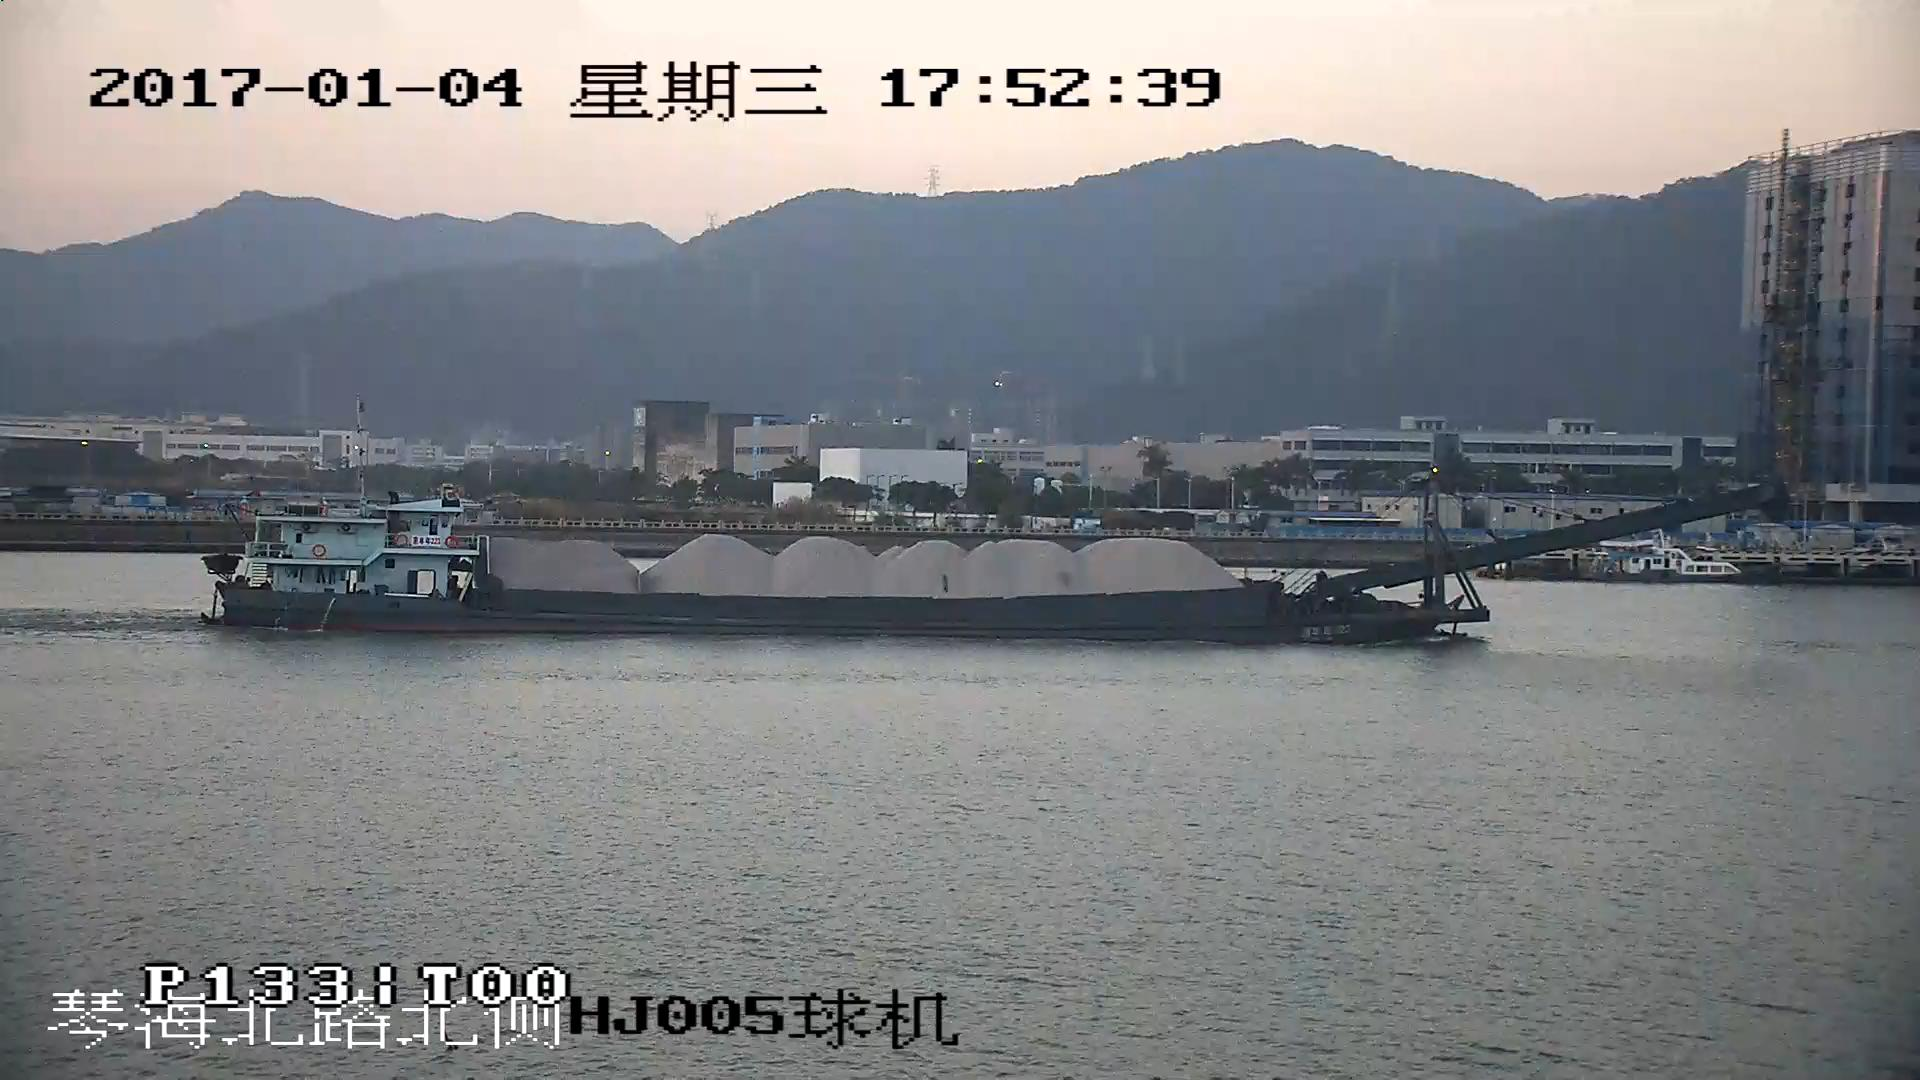ore carrier: (202, 490, 1781, 647)
